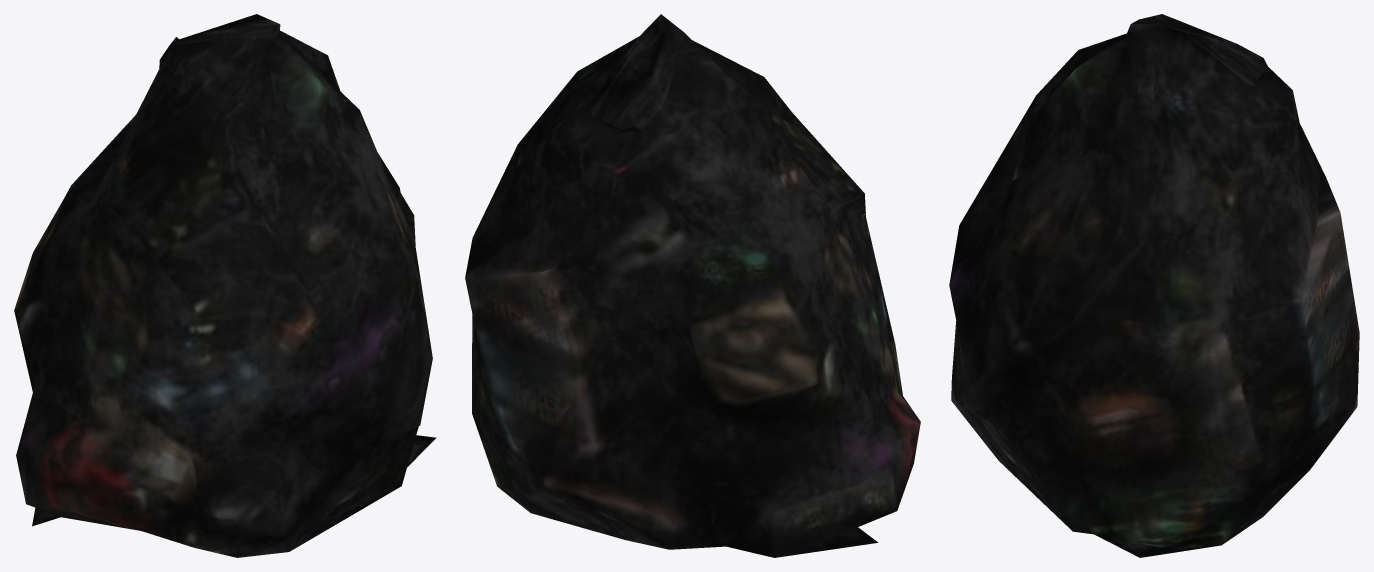
File: trashbag.glb
The picture shows the model from 3 angles, left to right: view 1: azimuth 30°, elevation 25°; view 2: azimuth 150°, elevation 25°; view 3: azimuth 270°, elevation 25°; orthographic projection.
Parts seen in each view (by area): view 1: trashbag; view 2: trashbag; view 3: trashbag.
Part boxes in pixels (x1,y1,x2,y2): trashbag: (14,14,436,557); trashbag: (465,14,920,557); trashbag: (949,14,1359,557).
Bounding box in the file's own units: 0.5186 × 0.5684 × 0.4552.
Materials: 1 (1 with a texture image).
